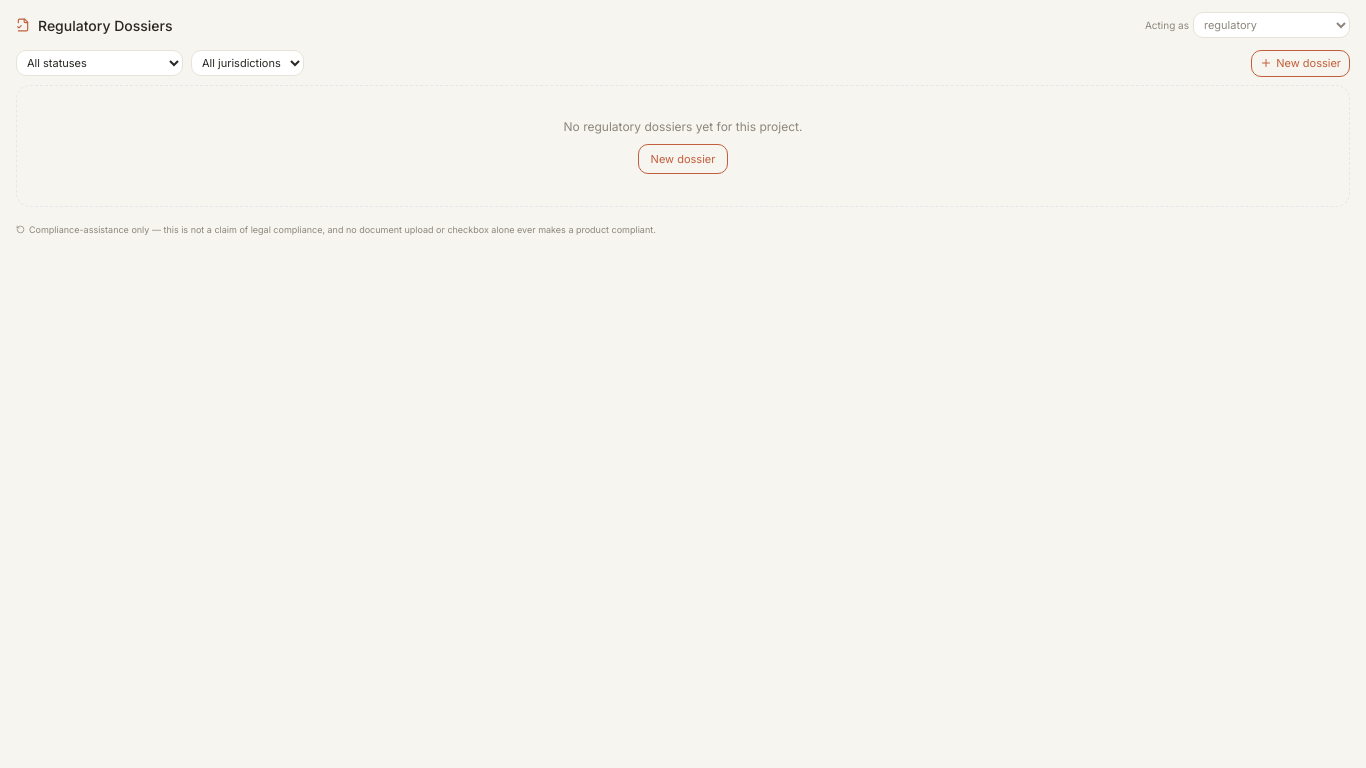
Test: DossierPanel — creation flow › refuses creation with no saved versions available and shows the warning
This screenshot has width=1366, height=768.
Step 1. Click the 1st button "New dossier" → coordinates (1301, 63), box [1251,50,1350,76]
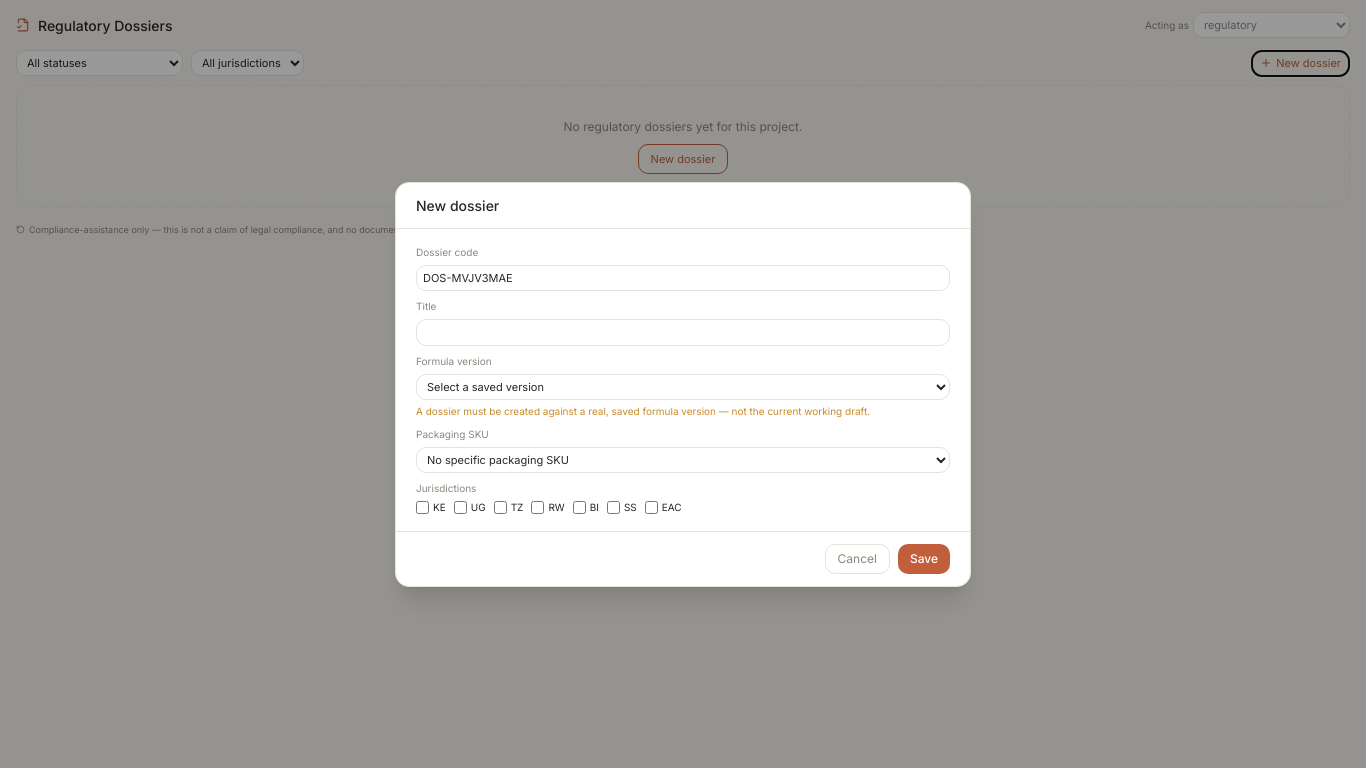
expect the text "must be created against a real, saved formula version" is shown: met, box [416,404,870,416]
